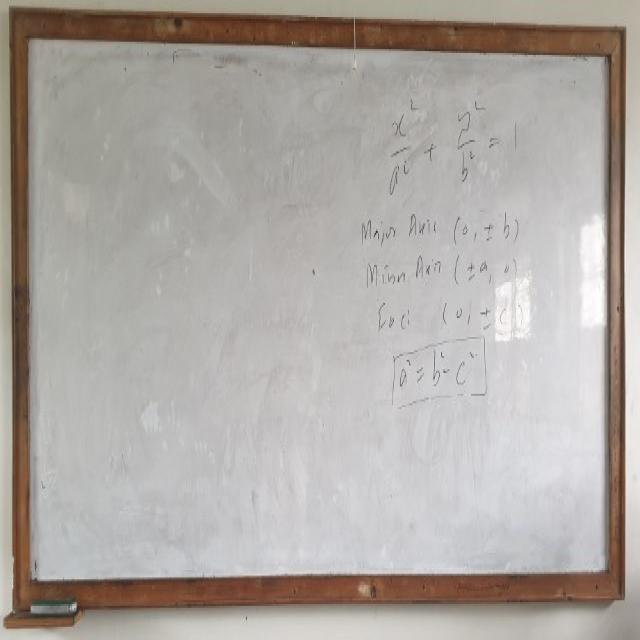White-board: (17, 22, 620, 598)
